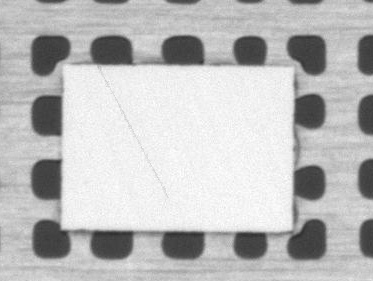DIE_CRACK: (130, 50, 223, 148)
